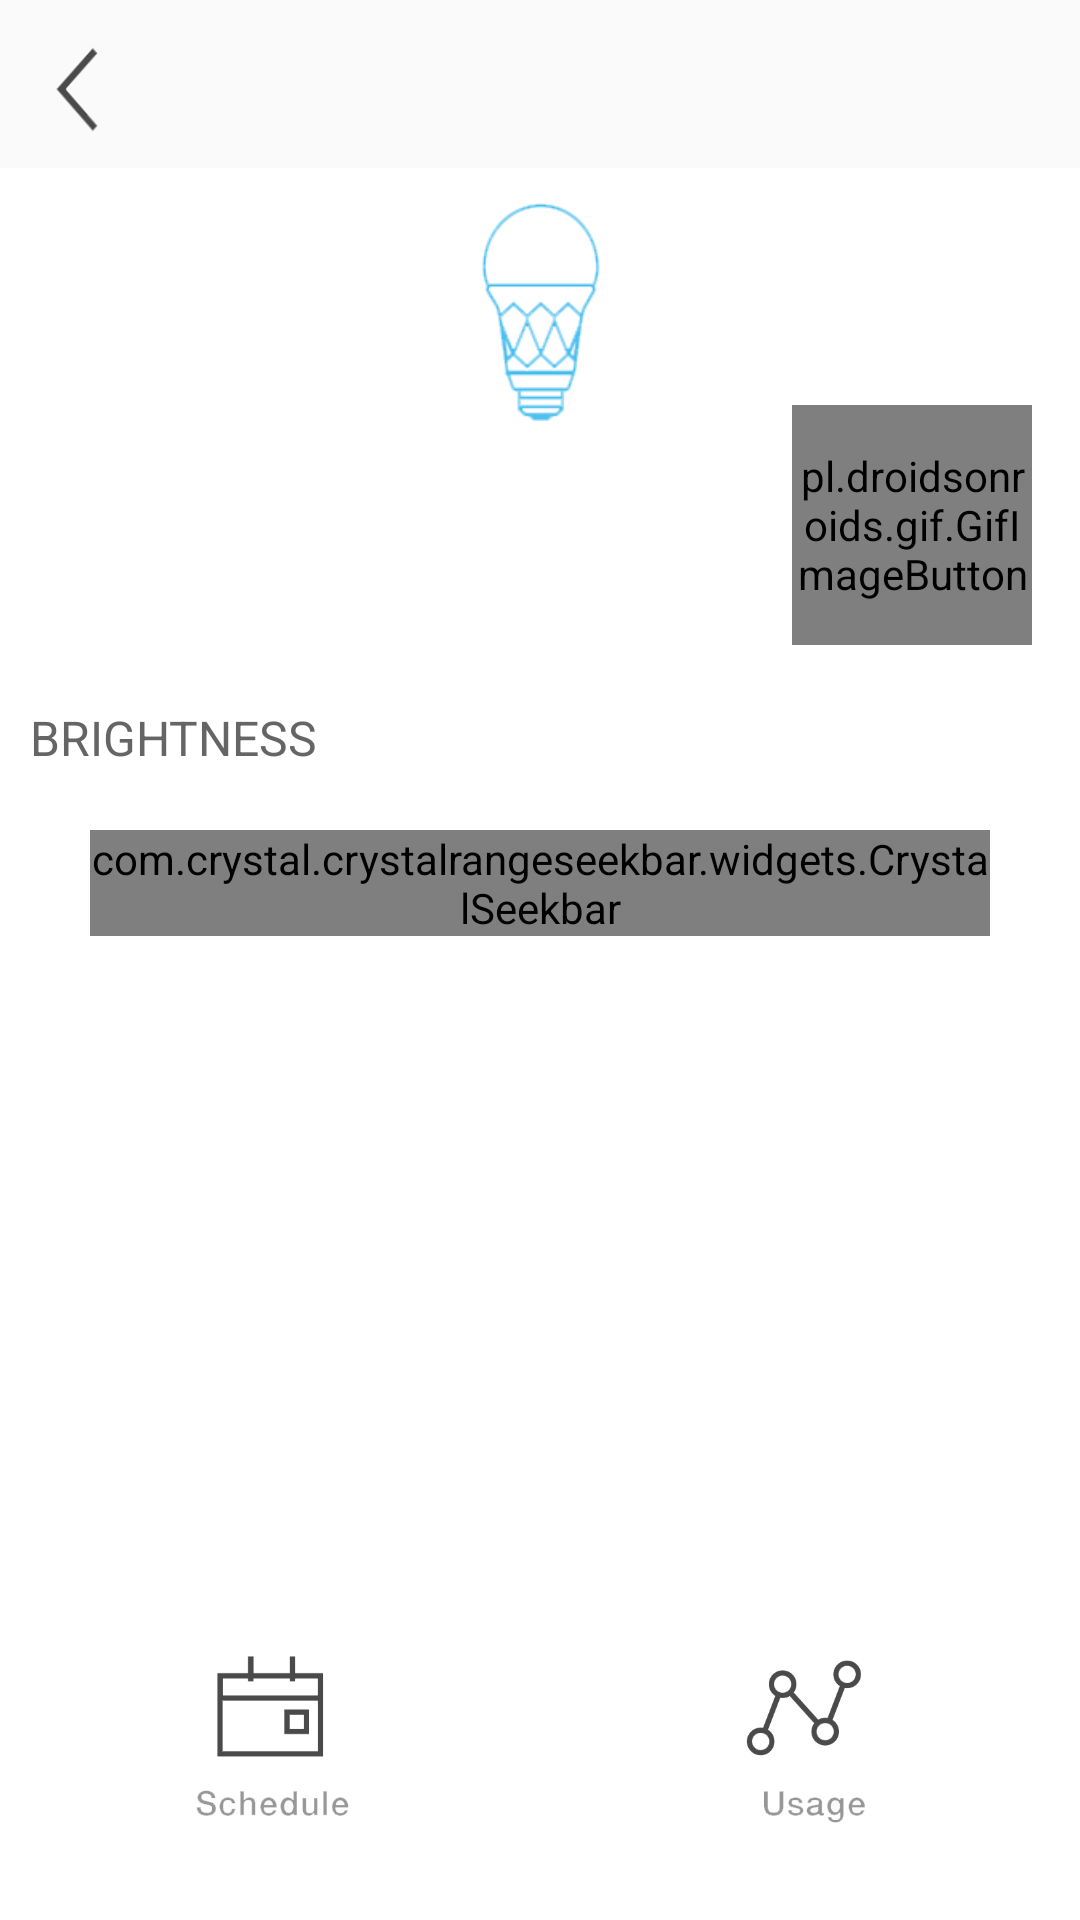

Named icons in this screenshot (1080 x 1920) and their bounding boxes, (x1, y1, x2, y2):
back: (56, 48, 97, 131)
